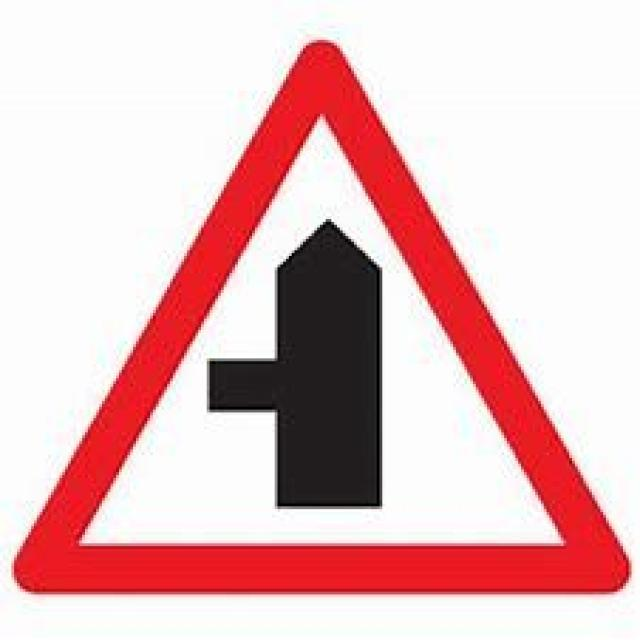side road left: (15, 36, 628, 600)
